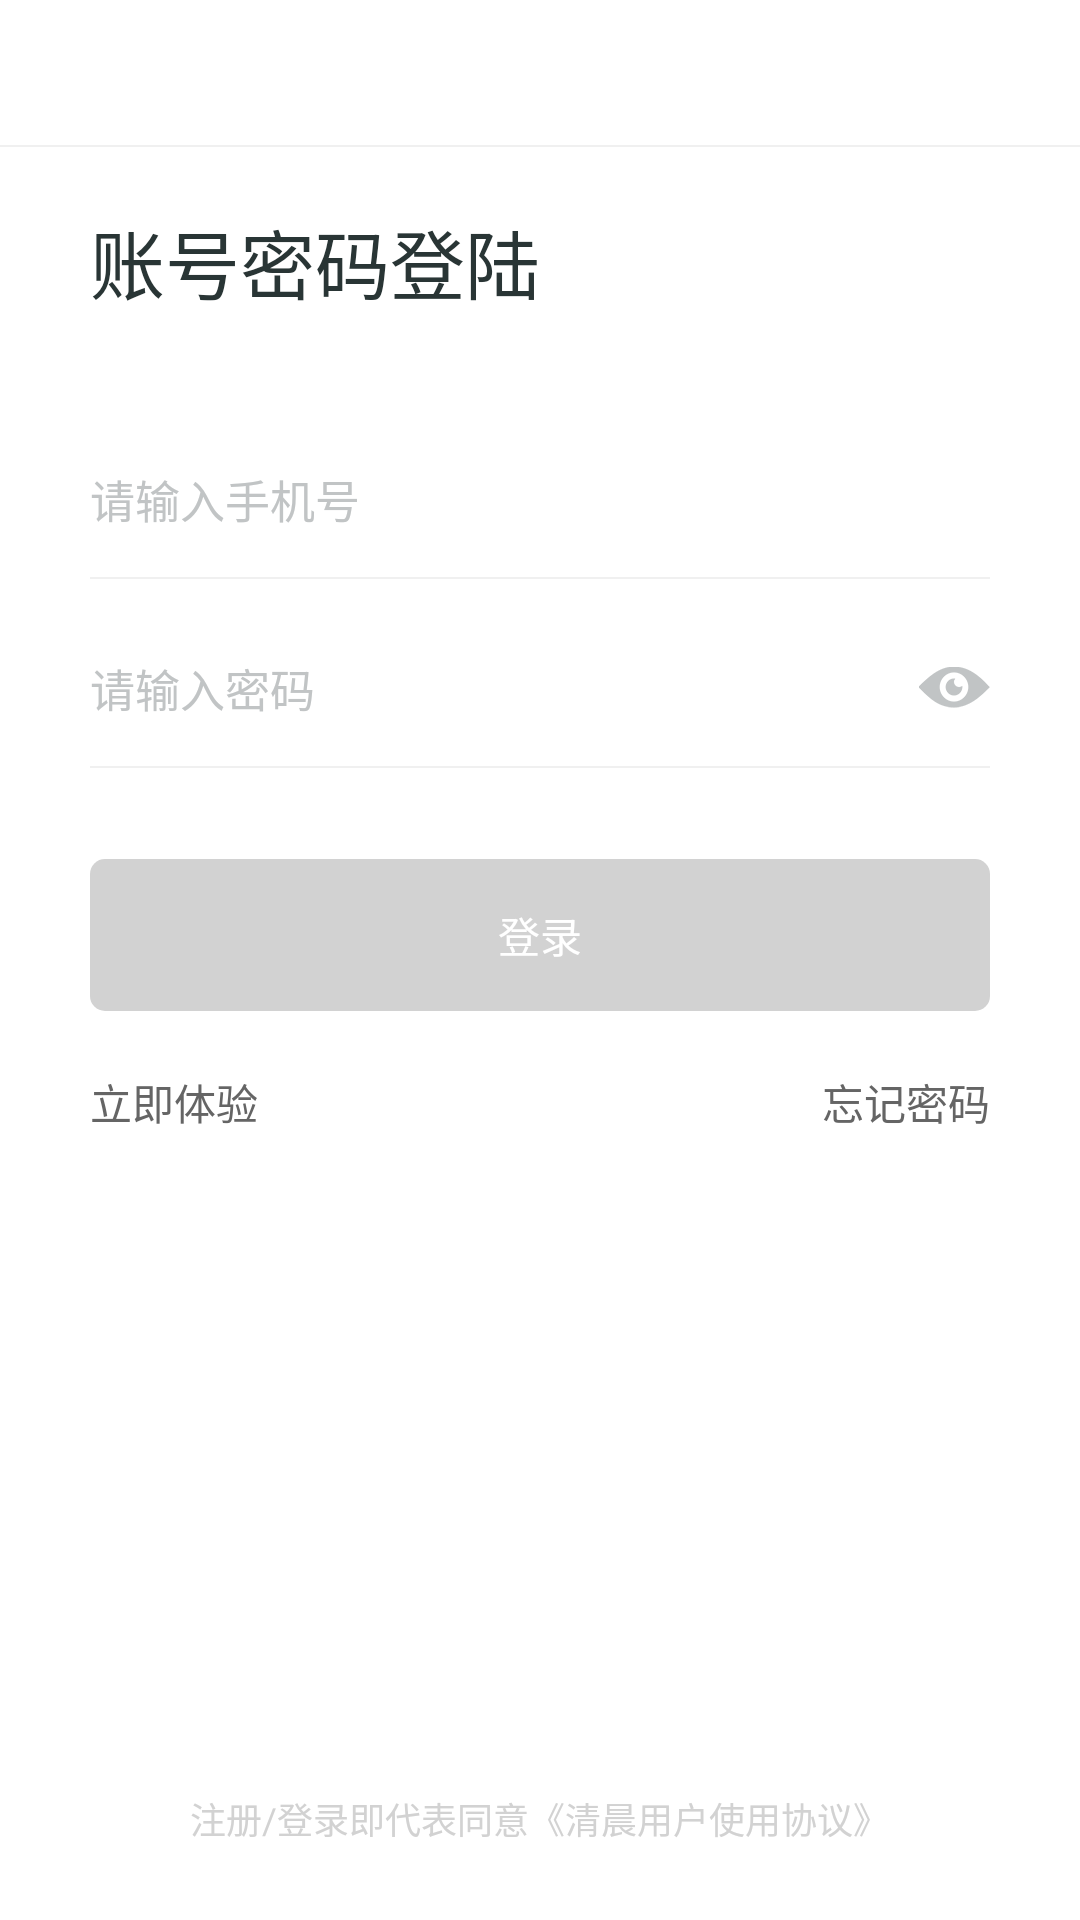

Where to tap for icons on this 1080 × 1920 app screen, as (x,y):
login pass invisible: (954,687)
